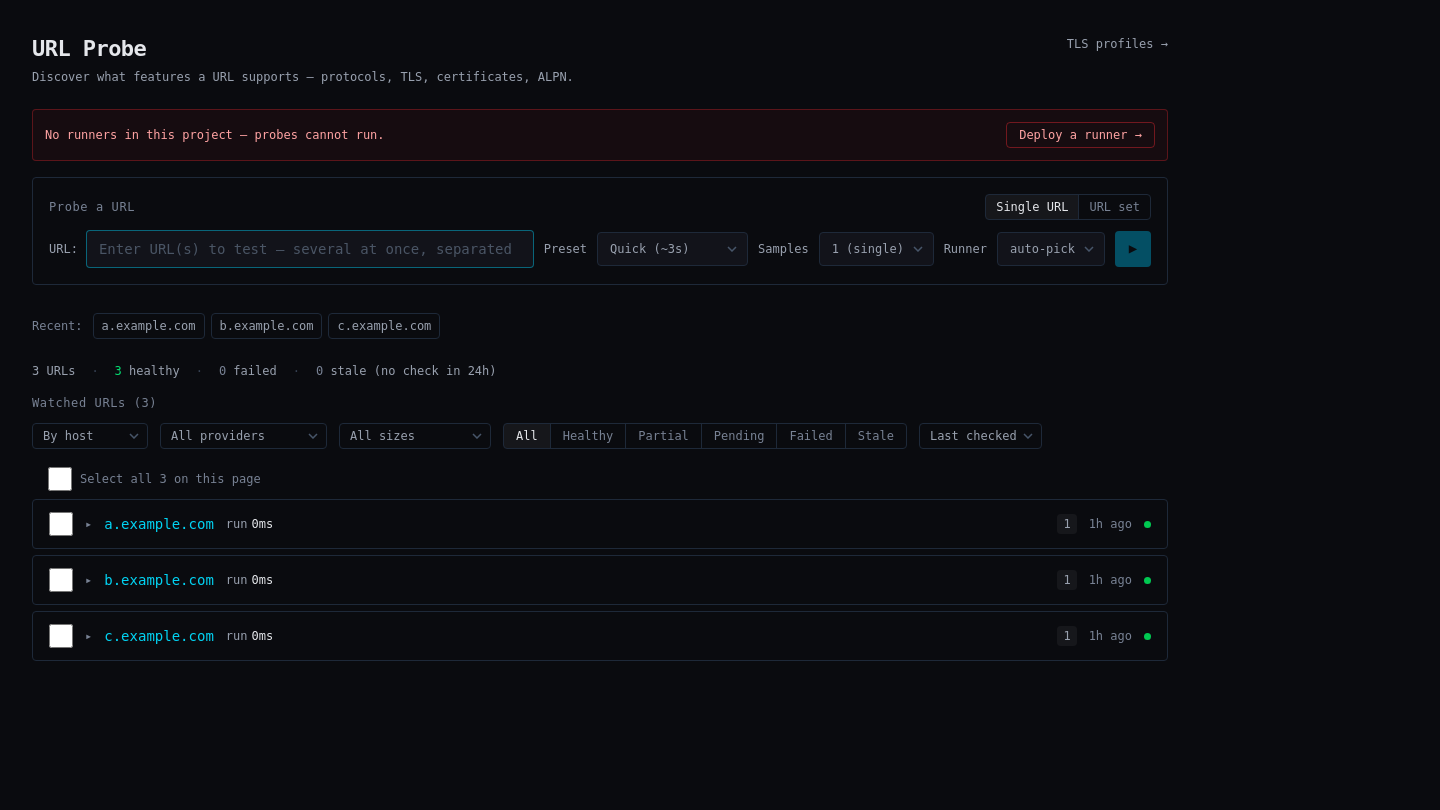
Scenario: watchlist multi-select → probe set now › select-all covers exactly the rows on this page
Expected: the checkbox named "Select a.example.com for a URL set" is shown, [49,512,73,536]
What coordinates should you click on to do the following:
click the checkbox labelled "Select all 3 on this page"
I would click on:
 (60, 479)
Its box is [48,467,72,491].
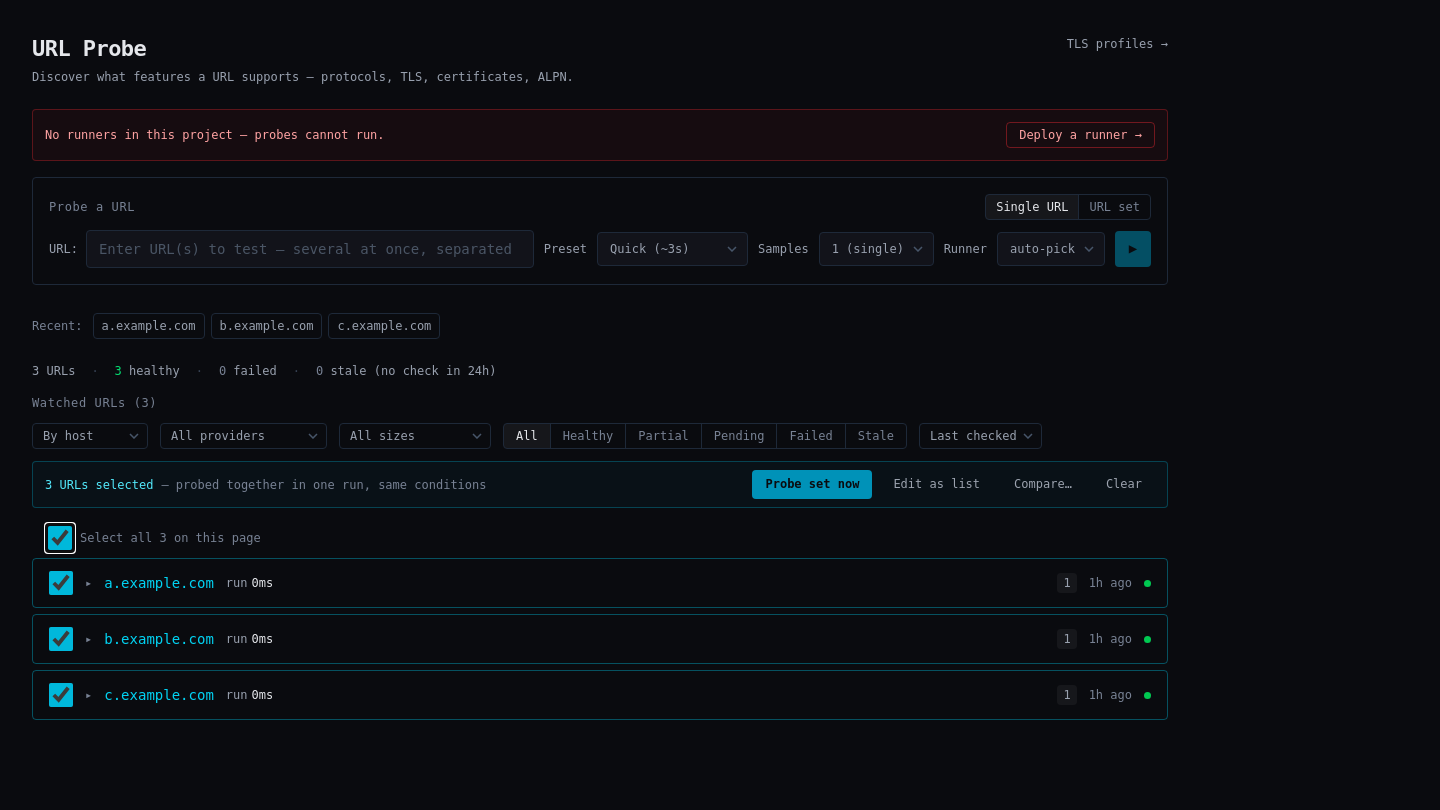
Expected: the text "3 URLs selected" is shown, [45,476,153,492]
